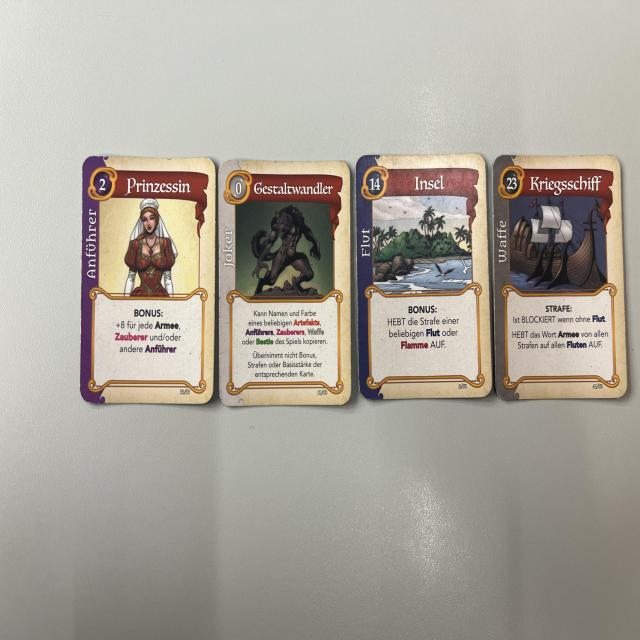Island: (356, 157, 494, 396)
Princess: (80, 154, 217, 402)
Shapeshifter: (216, 160, 351, 407)
Warship: (491, 161, 626, 400)
